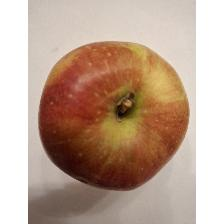Apfel: (36, 37, 191, 192)
